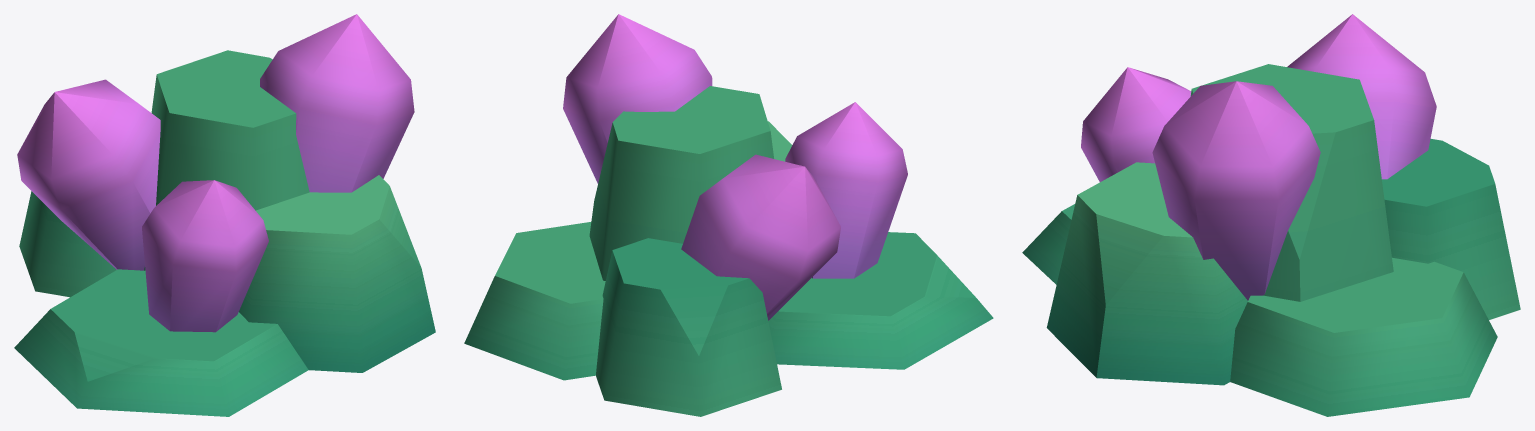
File: kenney-tower-defense-detail-crystal-large.glb
3 views of the same model, side by side, from view 1: azimuth 30°, elevation 25°; view 2: azimuth 150°, elevation 25°; view 3: azimuth 270°, elevation 25° (orthographic). The views are drawn at different scales.
Visible parts, largest first — view 1: detail-crystal-large; view 2: detail-crystal-large; view 3: detail-crystal-large.
Part boxes in pixels (x1,y1,x2,y2): detail-crystal-large: (14, 14, 435, 416); detail-crystal-large: (464, 14, 993, 416); detail-crystal-large: (1022, 14, 1520, 416).
Bounding box in the file's own units: 0.8922 × 0.5518 × 0.8593.
Materials: 1 (1 with a texture image).
